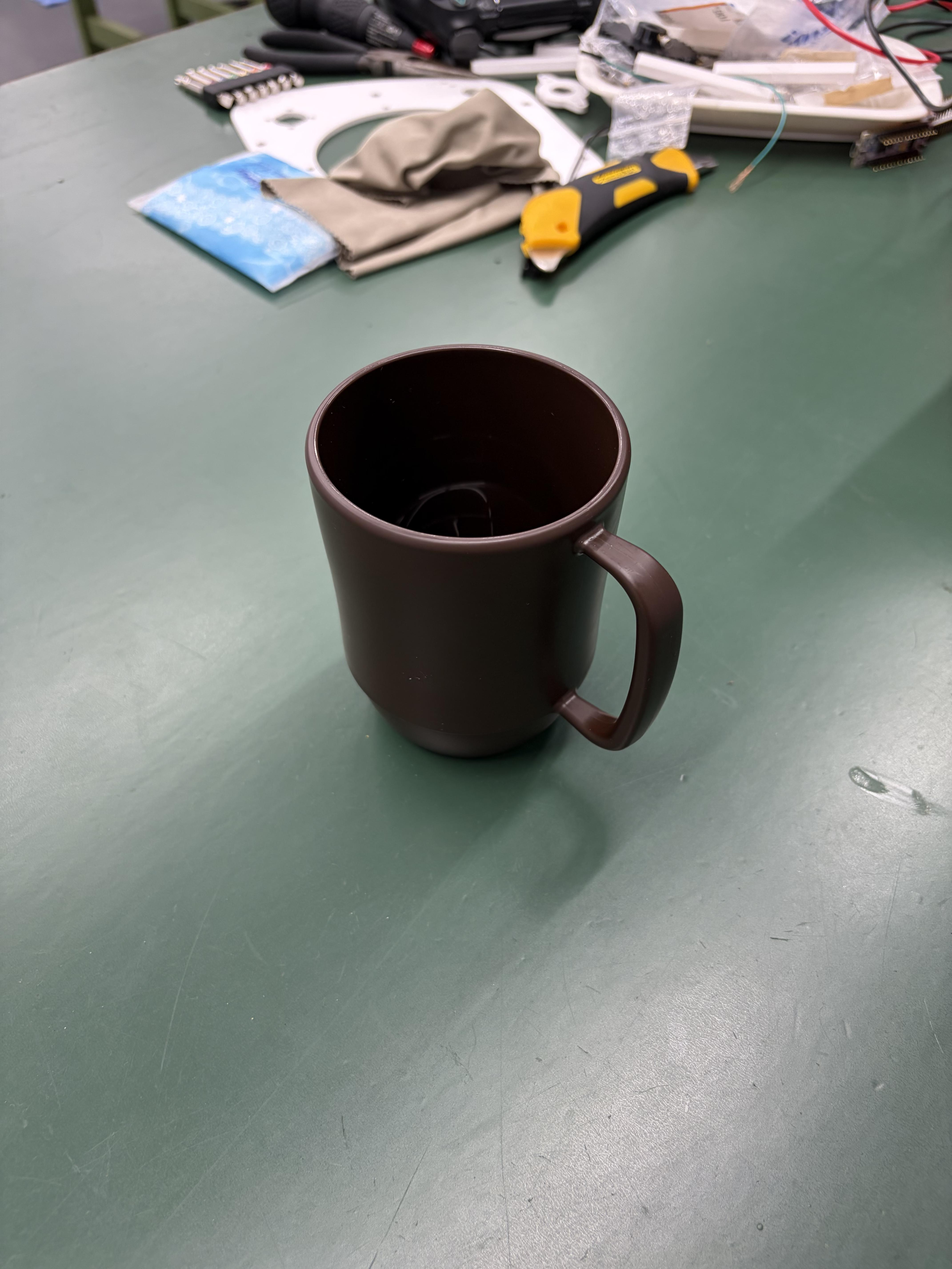mug-real100-3d100: (306, 345, 682, 757)
